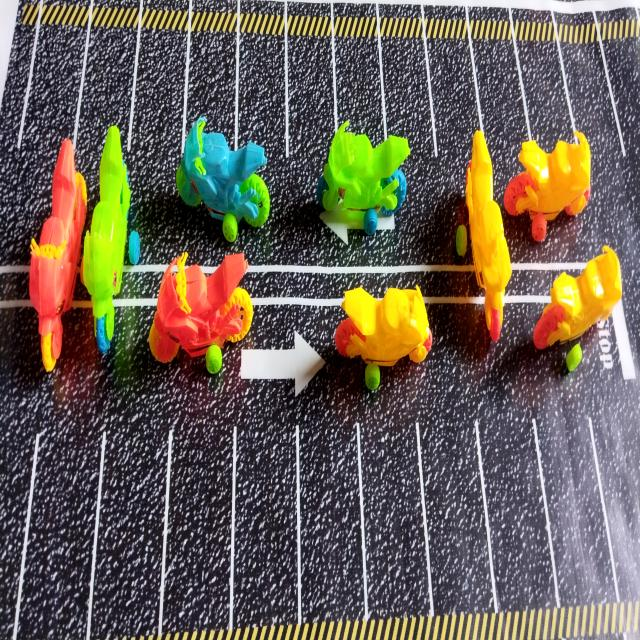bikes: (29, 138, 87, 371), (82, 125, 140, 353), (149, 252, 253, 374), (456, 130, 512, 341), (176, 117, 270, 242), (533, 246, 622, 371), (317, 121, 410, 234), (335, 286, 432, 390), (504, 131, 591, 241)
slots: (18, 425, 100, 638), (536, 409, 616, 604), (91, 439, 167, 635), (480, 411, 555, 609), (162, 428, 232, 632), (421, 420, 493, 614), (361, 423, 429, 617), (300, 421, 364, 620), (235, 425, 297, 626), (474, 40, 527, 202), (131, 30, 186, 183), (21, 25, 87, 152), (79, 29, 135, 175), (561, 43, 622, 172), (381, 37, 437, 174), (427, 34, 479, 170), (288, 31, 335, 167), (517, 40, 572, 152), (239, 37, 285, 169), (186, 33, 236, 144), (336, 37, 384, 143)
